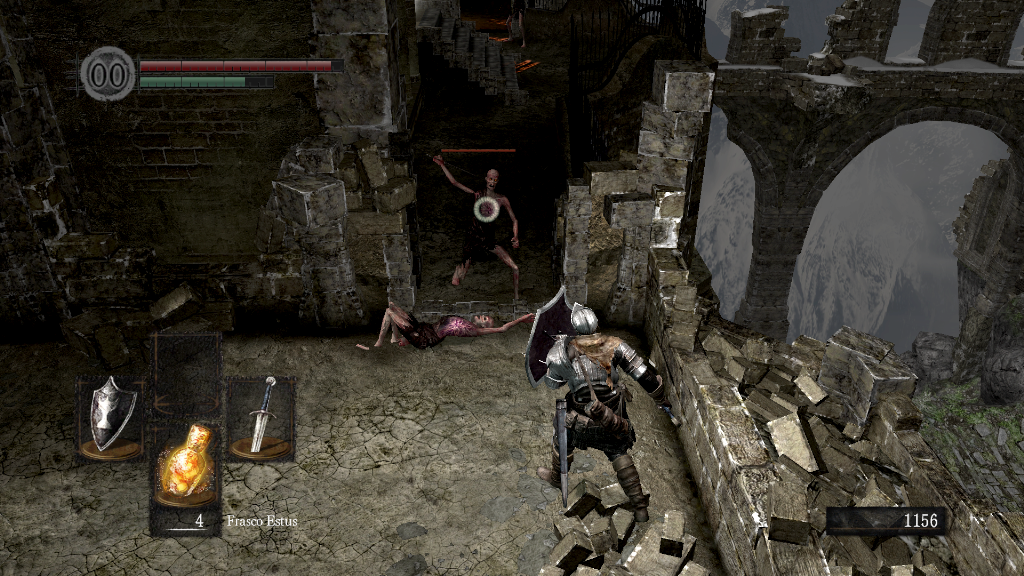health: (138, 58, 343, 71)
hollow: (422, 151, 525, 301)
humanity: (80, 45, 136, 102)
player: (521, 284, 683, 523)
souls: (825, 506, 945, 536)
stamina: (138, 74, 274, 88)
